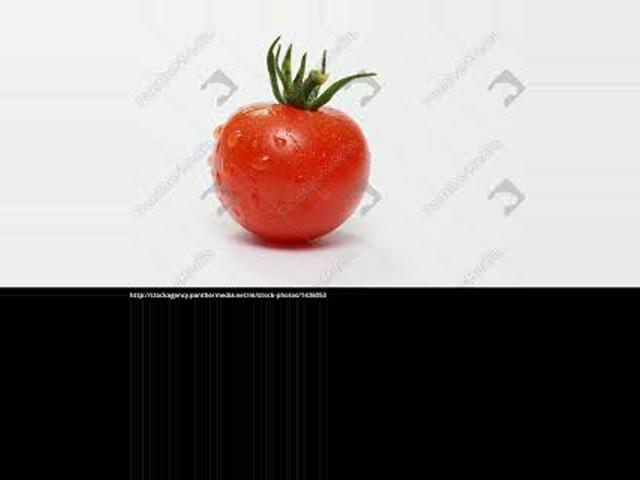tomato: (216, 104, 370, 244)
